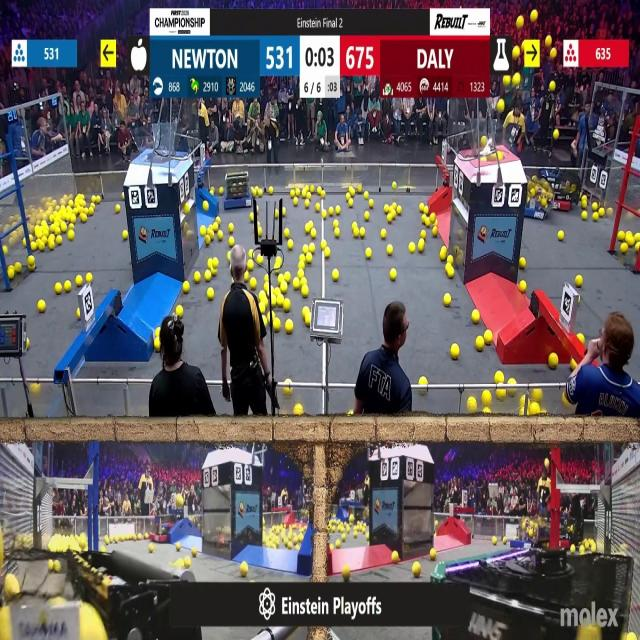ball_airborne: (497, 99, 505, 113), (514, 46, 522, 58), (176, 495, 184, 506), (524, 40, 532, 51), (503, 74, 510, 86), (531, 9, 538, 21), (532, 57, 539, 69), (514, 74, 521, 85), (544, 36, 551, 47), (518, 15, 524, 27), (551, 80, 557, 92), (506, 112, 512, 123), (481, 136, 487, 146), (554, 130, 560, 140), (551, 48, 557, 58), (496, 151, 502, 160), (543, 459, 548, 468)
ball_ground: (550, 353, 559, 368), (467, 397, 476, 412), (414, 562, 422, 577), (241, 562, 249, 576), (342, 564, 350, 578), (484, 391, 492, 405), (474, 338, 482, 352), (285, 321, 293, 334), (533, 388, 541, 401), (293, 406, 302, 417), (471, 310, 478, 324), (452, 345, 459, 359), (305, 312, 312, 326), (484, 333, 492, 345), (626, 233, 634, 245), (530, 406, 539, 416), (302, 286, 310, 297), (495, 372, 503, 383), (56, 283, 64, 294), (498, 389, 506, 400), (38, 301, 45, 313), (575, 275, 582, 287), (193, 272, 200, 284), (176, 306, 183, 318), (445, 293, 452, 305), (331, 270, 338, 282), (274, 319, 281, 331), (419, 377, 427, 387), (64, 282, 72, 292), (291, 279, 299, 289), (258, 291, 266, 301), (154, 339, 160, 352), (184, 557, 191, 568), (418, 241, 425, 252), (364, 248, 371, 259), (205, 271, 212, 282), (271, 295, 278, 306), (392, 552, 398, 564), (284, 300, 290, 312), (208, 288, 214, 300), (183, 282, 189, 294), (281, 282, 287, 294), (174, 560, 183, 568), (583, 198, 589, 210), (250, 279, 257, 289), (429, 550, 436, 560), (410, 243, 417, 253), (621, 244, 628, 254), (520, 281, 526, 292), (390, 270, 396, 281), (520, 257, 526, 268), (248, 261, 254, 272), (8, 269, 14, 280), (441, 250, 447, 261), (510, 378, 518, 386), (309, 244, 316, 253), (619, 233, 626, 242), (284, 387, 291, 396), (396, 206, 403, 215), (387, 245, 393, 255), (307, 253, 313, 263), (76, 277, 82, 287), (558, 232, 564, 242), (88, 274, 94, 284), (244, 272, 250, 282), (68, 232, 74, 242), (204, 202, 210, 212), (381, 230, 387, 240), (287, 240, 293, 250), (29, 256, 35, 266), (448, 269, 454, 279), (227, 222, 233, 232), (311, 230, 317, 240), (276, 256, 282, 266), (359, 229, 365, 239), (259, 304, 265, 314), (284, 273, 290, 283), (580, 211, 586, 221), (201, 225, 207, 235), (14, 264, 20, 274), (57, 236, 63, 246), (577, 336, 584, 344), (47, 242, 54, 250), (271, 286, 278, 294), (628, 633, 636, 640), (210, 222, 217, 230), (284, 230, 290, 239), (227, 238, 233, 247), (353, 230, 359, 239), (593, 212, 599, 221), (448, 255, 454, 264), (321, 210, 327, 219), (570, 359, 576, 368), (31, 242, 37, 251), (205, 237, 211, 246), (278, 274, 284, 283), (62, 222, 68, 231), (430, 215, 436, 224), (76, 309, 81, 319), (321, 240, 326, 250), (39, 242, 44, 252), (184, 204, 189, 214), (302, 278, 309, 285), (285, 379, 292, 386), (29, 265, 36, 272), (387, 214, 393, 222), (248, 250, 254, 258), (297, 272, 303, 280), (363, 212, 369, 220), (292, 200, 298, 208), (90, 207, 96, 215), (592, 204, 598, 212), (484, 409, 492, 415), (424, 218, 430, 226), (363, 533, 369, 541), (335, 219, 341, 227), (289, 190, 295, 198), (70, 215, 76, 223), (176, 541, 181, 550), (257, 255, 262, 264), (336, 230, 341, 239), (324, 249, 329, 258), (148, 542, 153, 551), (257, 226, 262, 235), (213, 259, 218, 268), (635, 243, 640, 252), (304, 244, 309, 253), (420, 204, 425, 213), (599, 208, 604, 217), (3, 247, 8, 256), (80, 215, 86, 222), (348, 201, 354, 208), (363, 191, 369, 198), (352, 221, 358, 228), (269, 186, 275, 193), (23, 240, 29, 247), (346, 192, 352, 199), (122, 232, 127, 240), (421, 232, 426, 240), (299, 254, 304, 262), (218, 232, 222, 242), (337, 207, 342, 215), (306, 200, 311, 208), (306, 224, 311, 232), (191, 549, 196, 557), (337, 539, 342, 547), (492, 536, 497, 544), (93, 194, 98, 202), (212, 269, 217, 277), (215, 216, 220, 224), (209, 233, 214, 241), (606, 208, 611, 216), (208, 257, 212, 266), (282, 208, 286, 217), (266, 283, 270, 292), (298, 264, 304, 270), (265, 318, 269, 327), (155, 327, 159, 336), (115, 206, 120, 213), (316, 205, 321, 212), (328, 208, 333, 215), (99, 547, 104, 554), (294, 189, 299, 196), (294, 543, 299, 550), (272, 311, 277, 318), (138, 533, 143, 540), (210, 187, 215, 194), (250, 213, 254, 221), (368, 200, 372, 208), (276, 210, 280, 218), (384, 205, 388, 213), (432, 229, 436, 237), (343, 536, 347, 544), (635, 234, 639, 242), (257, 188, 261, 196), (144, 532, 148, 540), (307, 192, 312, 198), (353, 531, 358, 537), (250, 578, 255, 584), (266, 275, 270, 282), (120, 191, 124, 198), (219, 187, 223, 194), (392, 182, 396, 189), (97, 198, 101, 205), (321, 190, 325, 197), (288, 541, 292, 548), (27, 340, 30, 348), (226, 253, 229, 260)
goal: (464, 118, 522, 160), (131, 130, 189, 161)
robot_blue: (524, 176, 554, 221), (225, 168, 252, 208)
robot_red: (552, 167, 582, 210), (152, 514, 182, 542)
